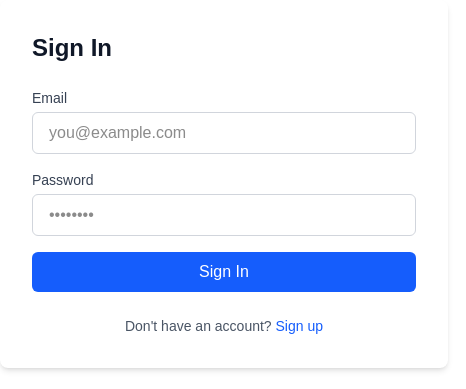
Test: LoginForm › Submission › should disable button while loading
Type "test@example.com" into the field with placeholder "you@example.com" at (224, 133), box [32,112,416,154]
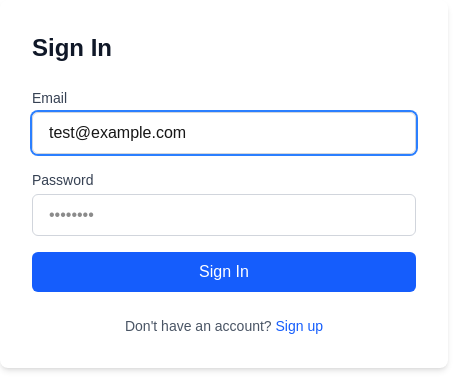
Type "Password123" into the password field with placeholder "••••••••" at (224, 215), box [32,194,416,236]
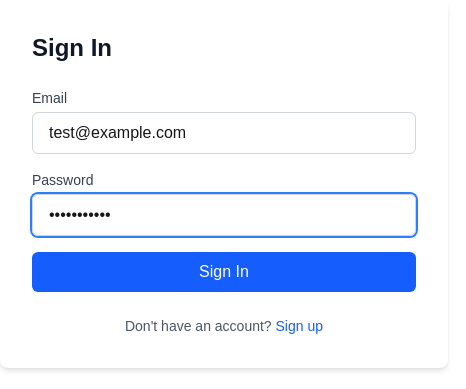
Click the button "Sign In" at (224, 272), box [32,252,416,292]
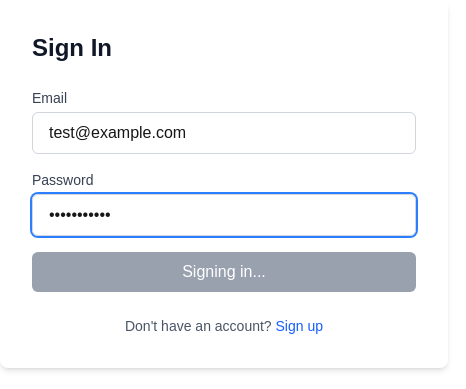
Check: the button named "sign in" is disabled, box [32,252,416,292]
